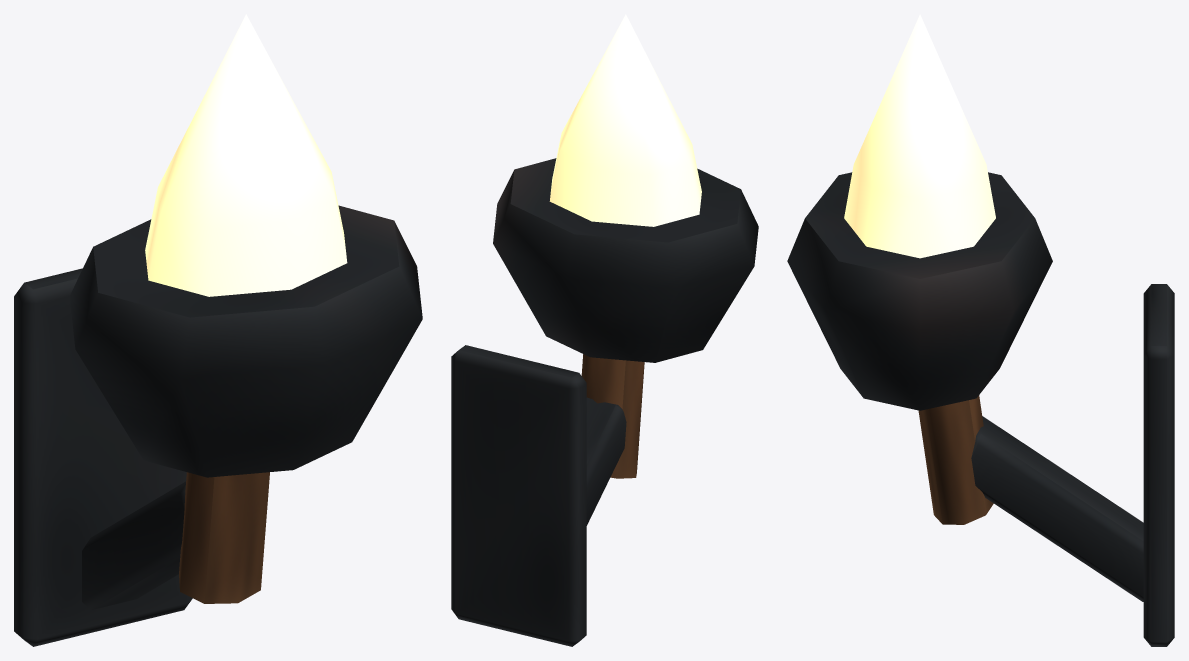
File: Furn_Dun_WallTorch.fbx
3 views of the same model, side by side, from view 1: azimuth 30°, elevation 25°; view 2: azimuth 150°, elevation 25°; view 3: azimuth 270°, elevation 25° (orthographic). The views are drawn at different scales.
Visible parts, largest first — view 1: Furn_Dun_WallTorch; view 2: Furn_Dun_WallTorch; view 3: Furn_Dun_WallTorch.
Boxes of the visible parts, left/top/right/bottom form: Furn_Dun_WallTorch: left=14, top=14, right=422, bottom=646; Furn_Dun_WallTorch: left=451, top=14, right=758, bottom=646; Furn_Dun_WallTorch: left=787, top=14, right=1174, bottom=646.
Bounding box in the file's own units: 0.3 × 0.6 × 0.35.
3 materials, 2 textured.
